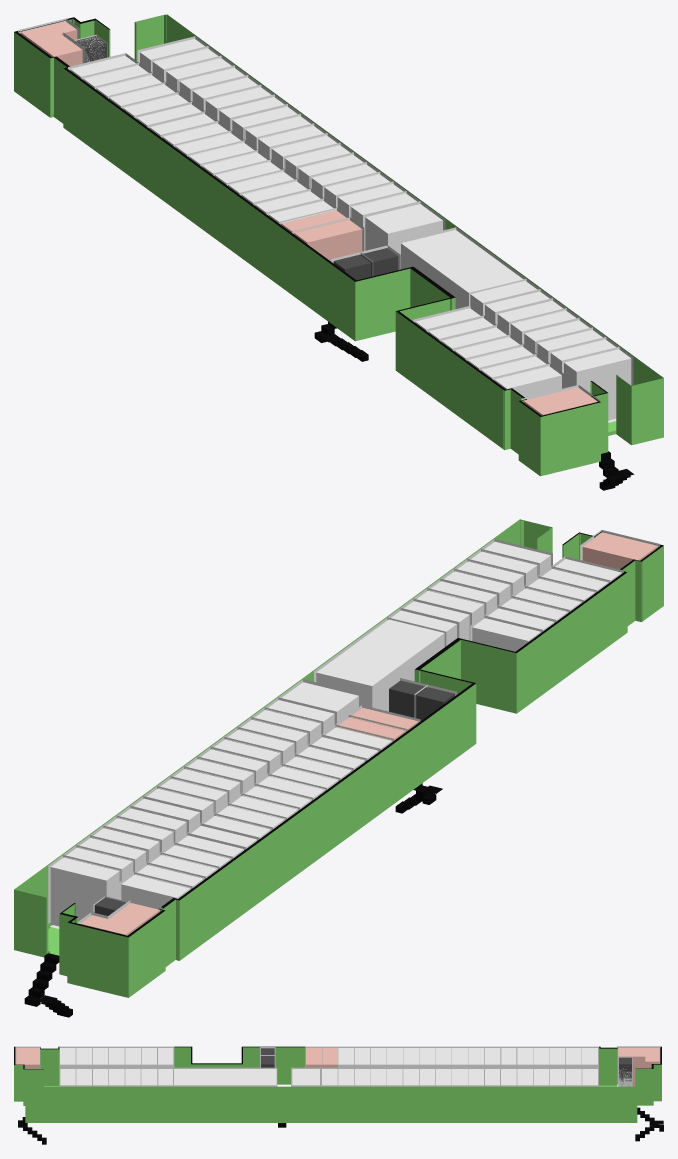
The picture shows the model from 3 angles, top to bottom: view 1: azimuth 30°, elevation 25°; view 2: azimuth 150°, elevation 25°; view 3: azimuth 270°, elevation 25°; orthographic projection. The views are drawn at different scales.
Visible parts, largest first — view 1: object, room_10_6_49, room_10_6_48, トイレ_10_6_4, room_10_6_50, トイレ_10_6_3, object_line.048, エレベーター_10_6_1, room_10_6_1, トイレ_10_6_1, room_10_6_22, room_10_6_29 (+44 smaller); view 2: object, room_10_6_49, room_10_6_24, トイレ_10_6_1, object_line.048, エレベーター_10_6_1, room_10_6_7, room_10_6_23, トイレ_10_6_3, 階段_10_6_1, room_10_6_22, room_10_6_41 (+42 smaller); view 3: object, room_10_6_49, トイレ_10_6_3, object_line.048, トイレ_10_6_1, 階段_10_6_1, room_10_6_22, object_エレベーター_6_1, room_10_6_3, room_10_6_17, room_10_6_20, room_10_6_21 (+51 smaller).
Boxes of the visible parts, bbox=[...] form: object: bbox=[14, 14, 663, 476]; room_10_6_49: bbox=[401, 230, 525, 308]; room_10_6_48: bbox=[564, 349, 631, 420]; トイレ_10_6_4: bbox=[294, 220, 362, 261]; room_10_6_50: bbox=[365, 204, 442, 252]; トイレ_10_6_3: bbox=[20, 21, 82, 66]; object_line.048: bbox=[363, 201, 445, 250]; エレベーター_10_6_1: bbox=[333, 248, 398, 280]; room_10_6_1: bbox=[494, 366, 561, 397]; トイレ_10_6_1: bbox=[523, 387, 597, 415]; room_10_6_22: bbox=[81, 63, 153, 89]; room_10_6_29: bbox=[206, 87, 273, 120]; object: bbox=[14, 519, 663, 997]; room_10_6_49: bbox=[316, 620, 443, 710]; room_10_6_24: bbox=[50, 857, 119, 926]; トイレ_10_6_1: bbox=[582, 532, 657, 569]; object_line.048: bbox=[277, 679, 361, 722]; エレベーター_10_6_1: bbox=[389, 680, 454, 720]; room_10_6_7: bbox=[472, 618, 540, 651]; room_10_6_23: bbox=[121, 874, 190, 907]; トイレ_10_6_3: bbox=[80, 903, 159, 935]; 階段_10_6_1: bbox=[24, 953, 72, 1017]; room_10_6_22: bbox=[132, 862, 205, 889]; room_10_6_41: bbox=[388, 610, 456, 647]; object: bbox=[14, 1046, 661, 1122]; room_10_6_49: bbox=[189, 1069, 276, 1086]; トイレ_10_6_3: bbox=[618, 1048, 659, 1086]; object_line.048: bbox=[291, 1067, 321, 1086]; トイレ_10_6_1: bbox=[16, 1048, 39, 1068]; 階段_10_6_1: bbox=[635, 1107, 663, 1141]; room_10_6_22: bbox=[565, 1046, 582, 1067]; object_エレベーター_6_1: bbox=[618, 1057, 632, 1086]; room_10_6_3: bbox=[92, 1048, 108, 1067]; room_10_6_17: bbox=[484, 1048, 500, 1067]; room_10_6_20: bbox=[533, 1048, 549, 1067]; room_10_6_21: bbox=[549, 1048, 565, 1067].
Bounding box in the file's own units: 0.363 × 0.2946 × 2.49.
